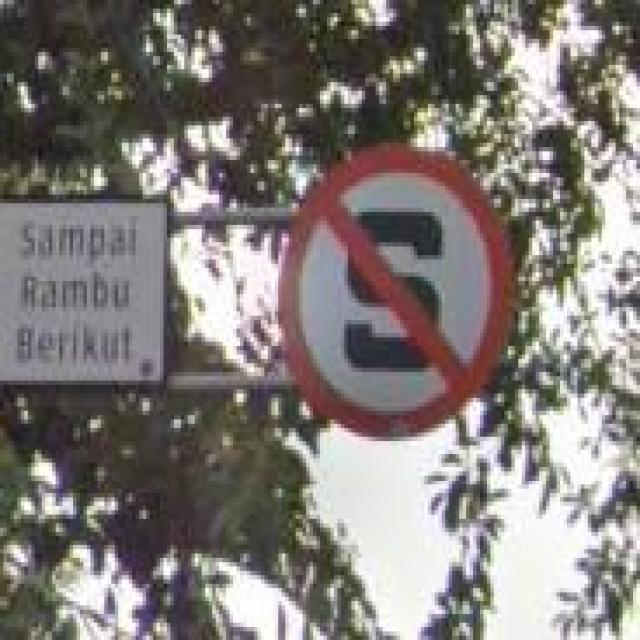traffic sign: (279, 147, 519, 441)
